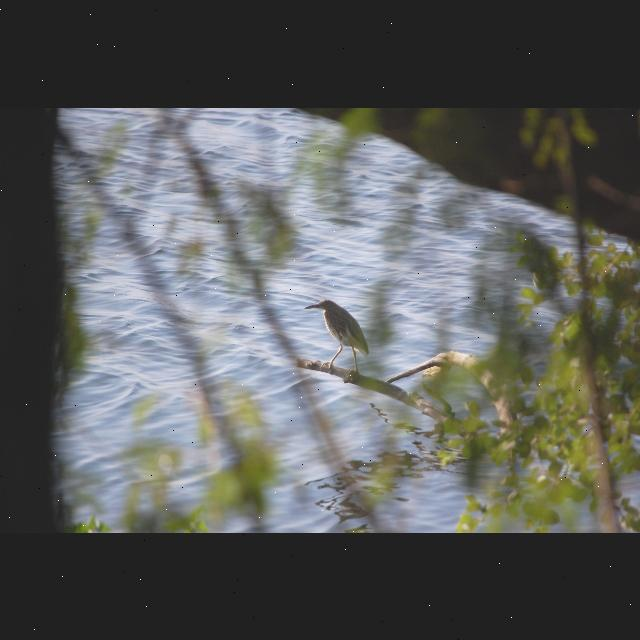heron: (301, 292, 375, 381)
